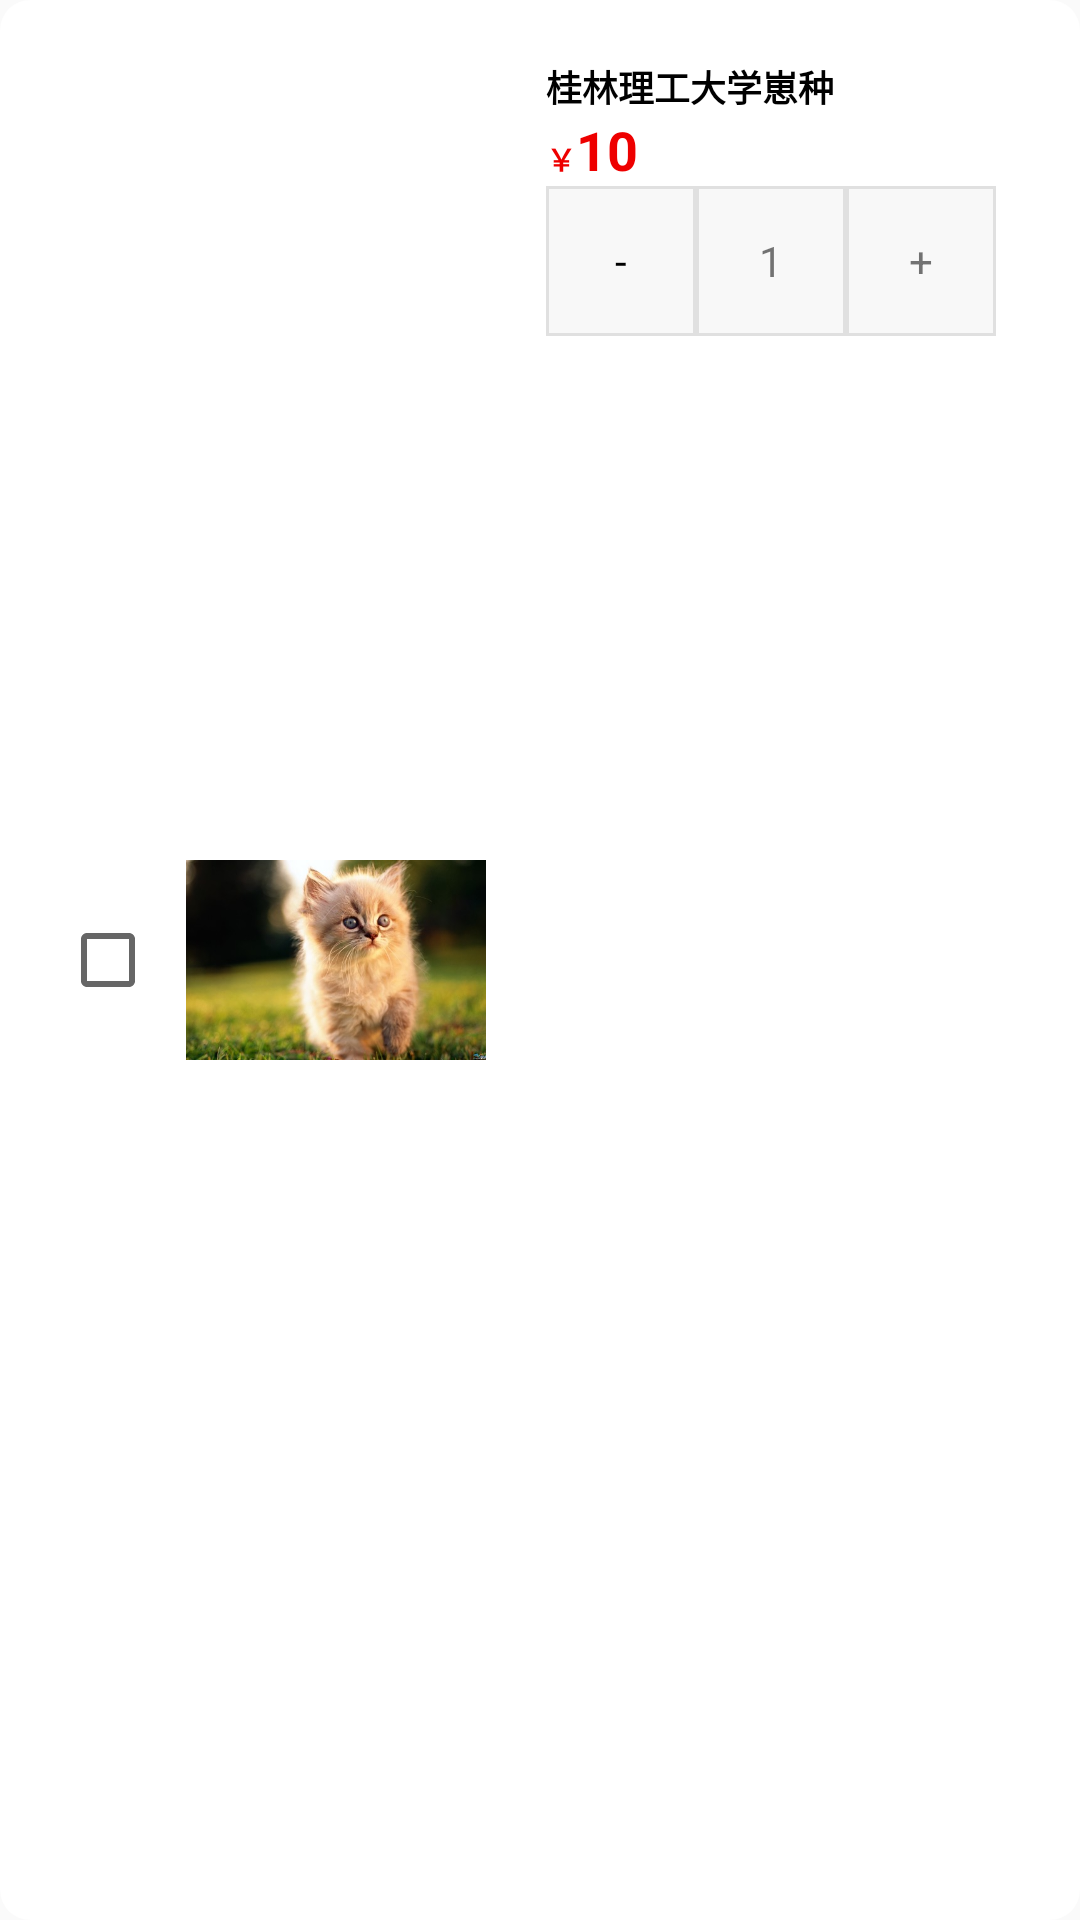

Screen size 1080 x 1920. Icon name, then its box in pixels as {"left": x1, "top": y1, "right": x2, "bottom": y2}:
animal: {"left": 186, "top": 860, "right": 486, "bottom": 1060}
